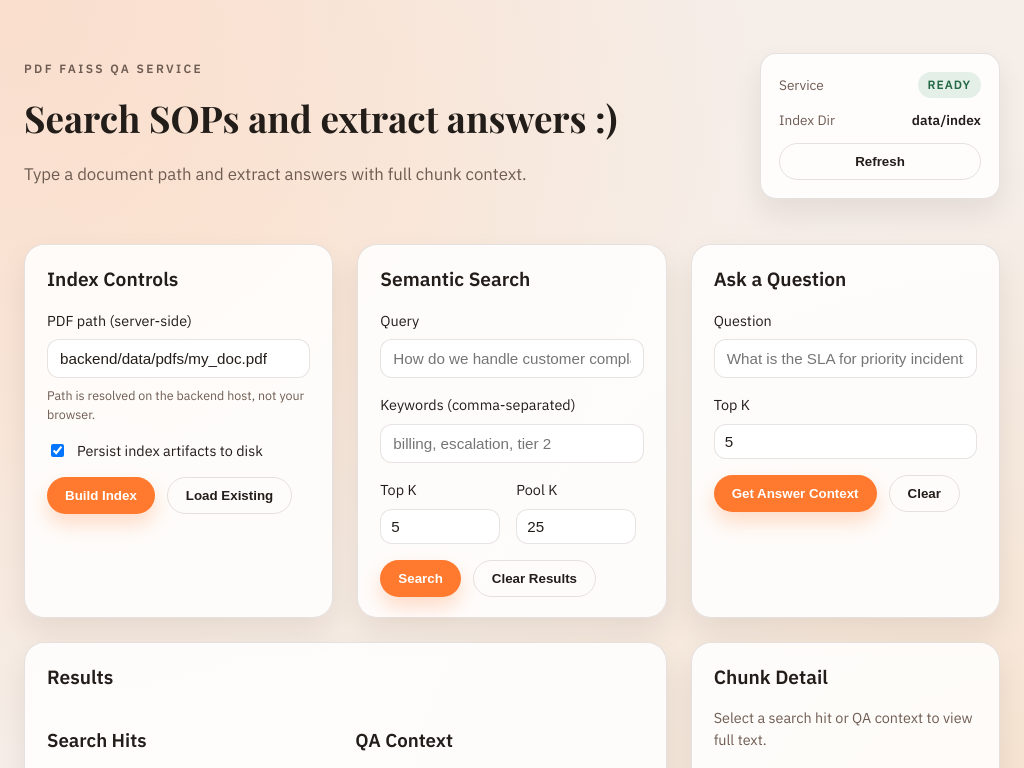
Test: App › searches and loads a chunk
Expected: the heading "Semantic Search" is shown, [380,266,530,291]
Type "validation" into the field labelled "Query" at (512, 359), box [380,339,644,378]
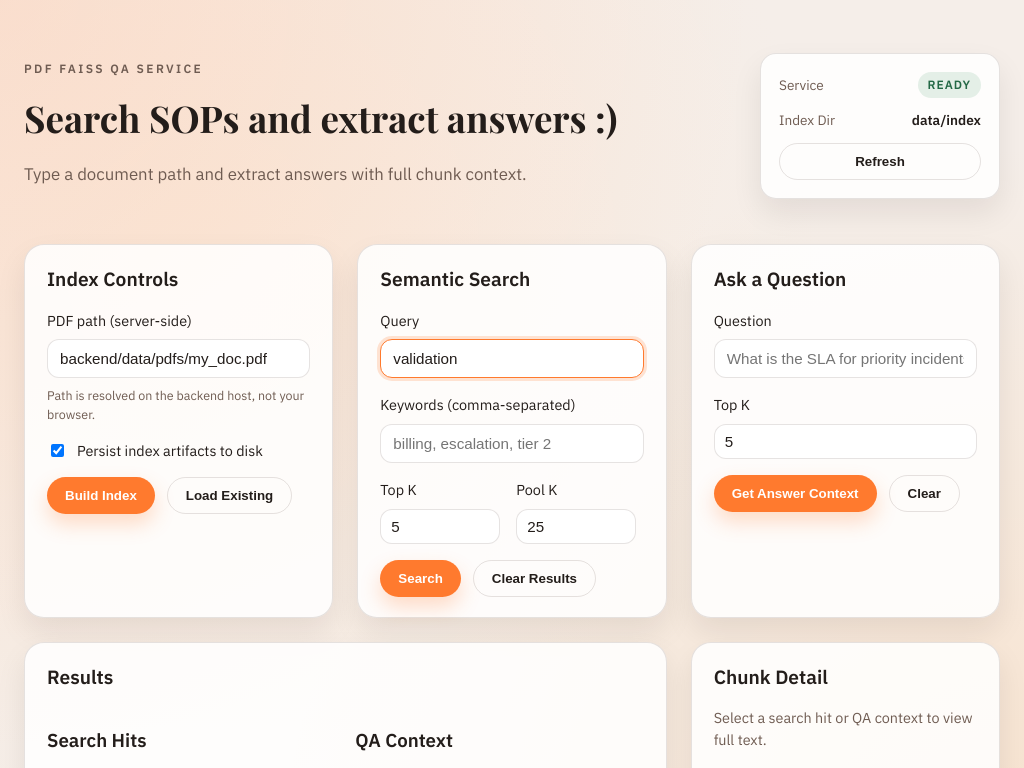
Click the button "Search" at (421, 578), box [380,560,461,597]
(page scrolled)
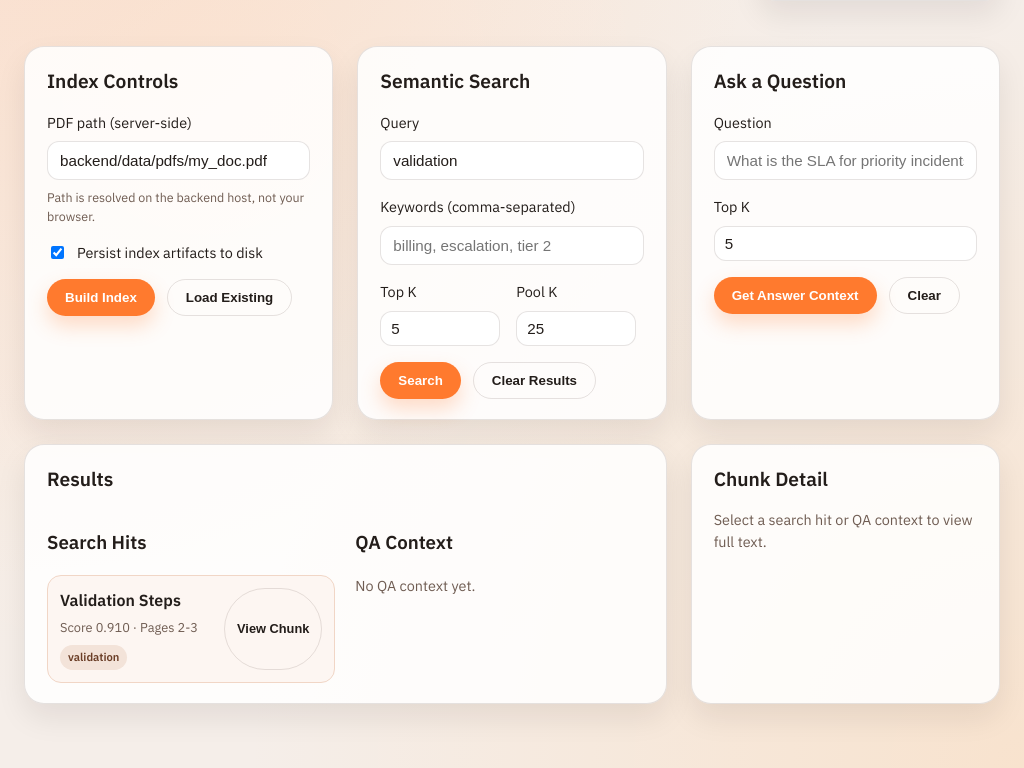
Expected: the text "Validation Steps" is shown, [60,588,198,612]
Click the button "View Chunk" at (273, 629), box [224,588,322,670]
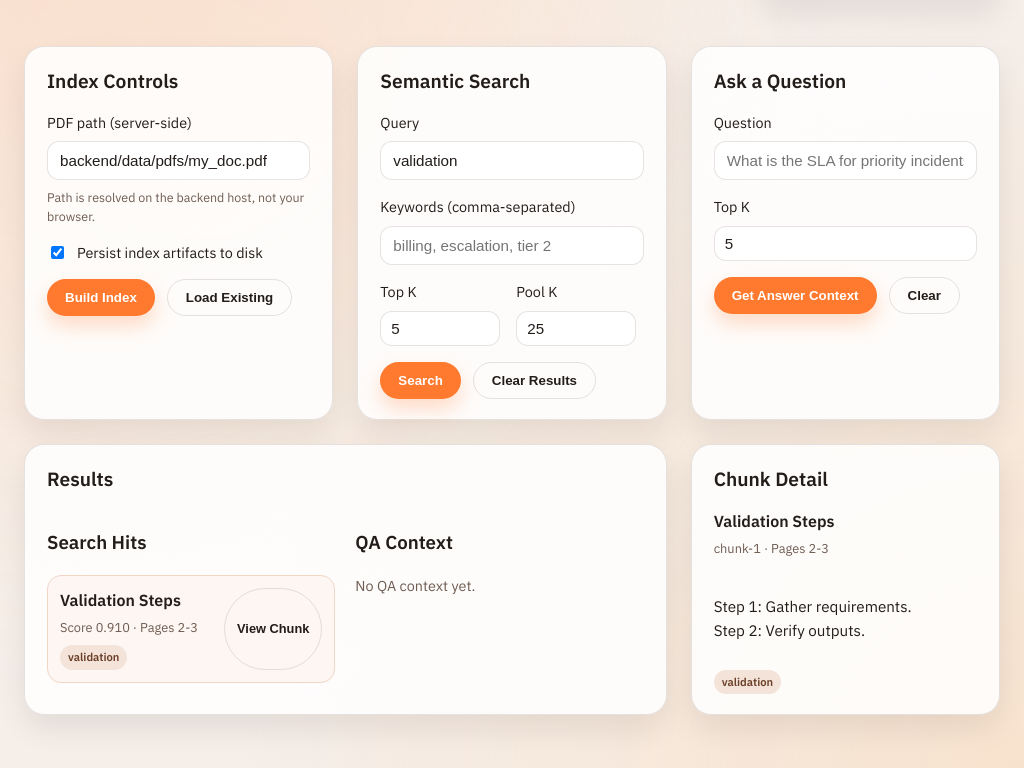
Expected: the text "Step 1: Gather requirements. Step 2: Verify outputs." is shown, [714,596,912,640]
